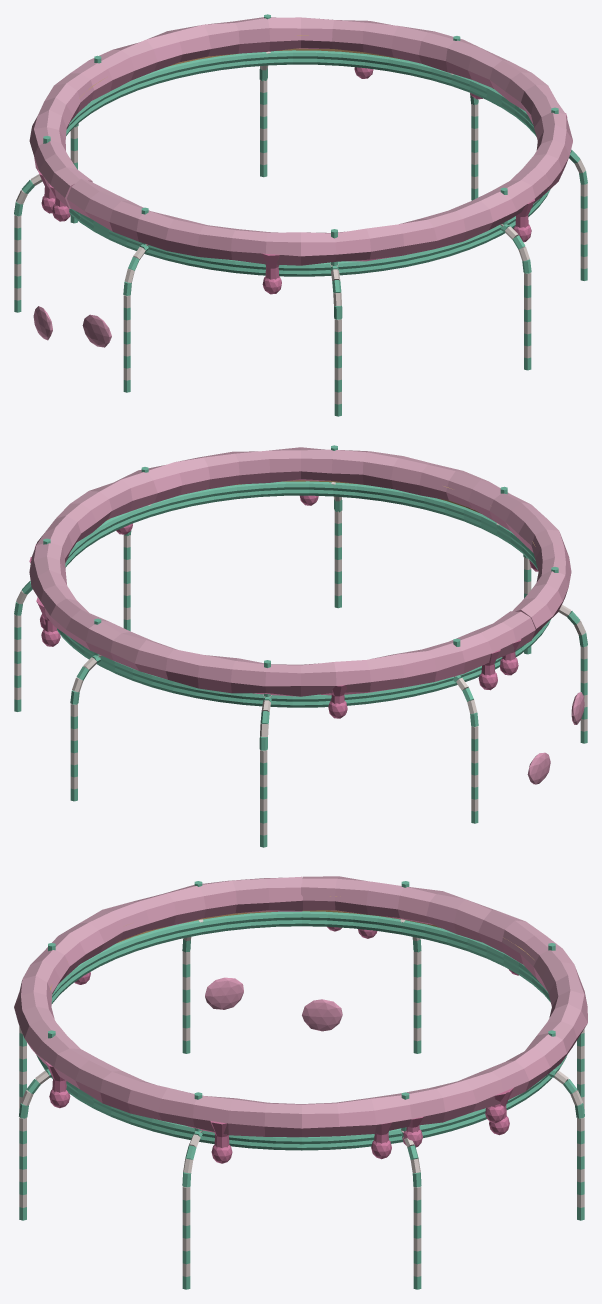
File: goo_jar_trim_3_mid@candy.fbx
The picture shows the model from 3 angles, top to bottom: view 1: azimuth 30°, elevation 25°; view 2: azimuth 150°, elevation 25°; view 3: azimuth 270°, elevation 25°; orthographic projection. The views are drawn at different scales.
Visible parts, largest first — view 1: goo_jar_trim_3_mid; view 2: goo_jar_trim_3_mid; view 3: goo_jar_trim_3_mid.
Part boxes in pixels (x1=…): goo_jar_trim_3_mid: x1=14, y1=14, x2=587, y2=416; goo_jar_trim_3_mid: x1=14, y1=445, x2=587, y2=847; goo_jar_trim_3_mid: x1=14, y1=876, x2=587, y2=1289.
Size of the model in its own units: 47.64 by 16.05 by 45.98.
